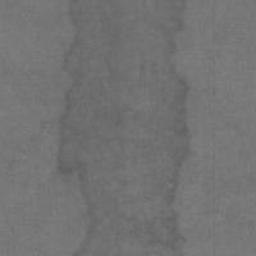Water spot: (51, 0, 192, 256)
